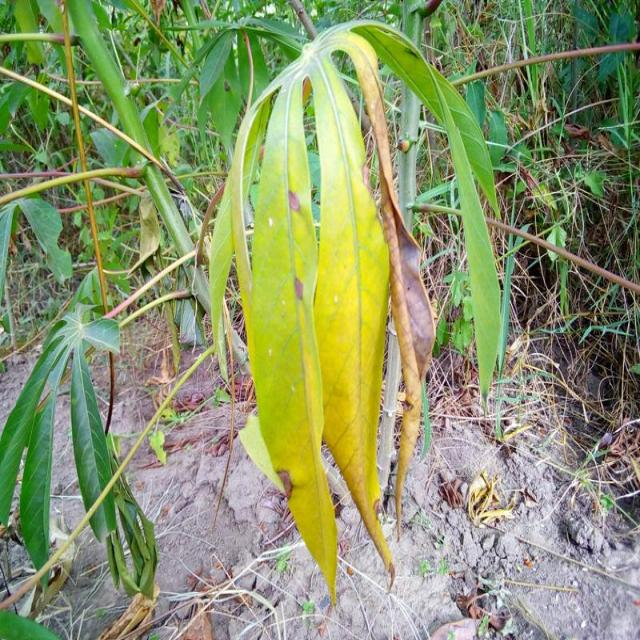cassava leaf: (208, 18, 502, 602), (243, 56, 339, 604), (305, 43, 396, 590)
